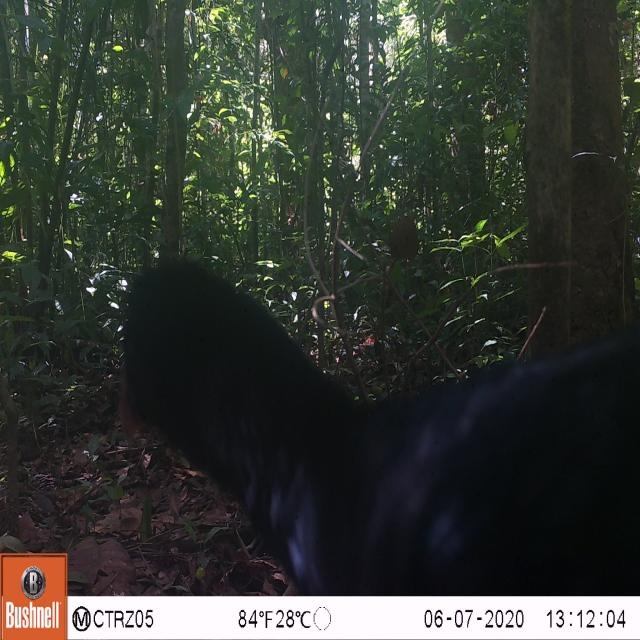Salvins Curassow: (96, 238, 640, 600)
